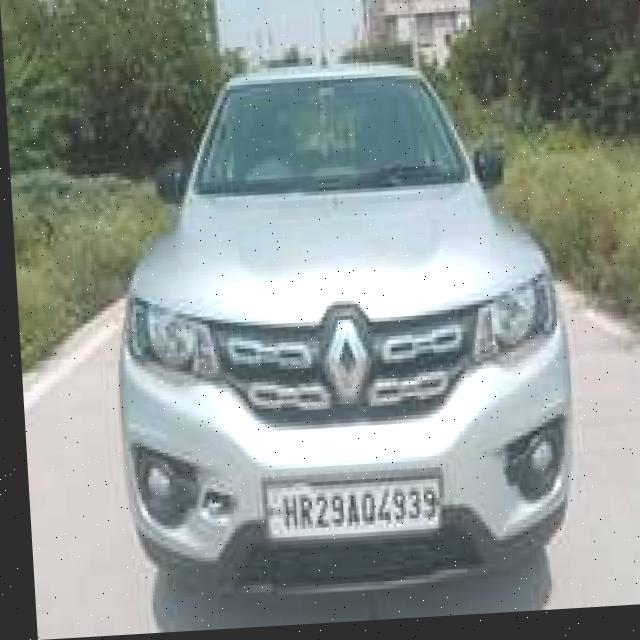plate: (255, 471, 436, 543)
